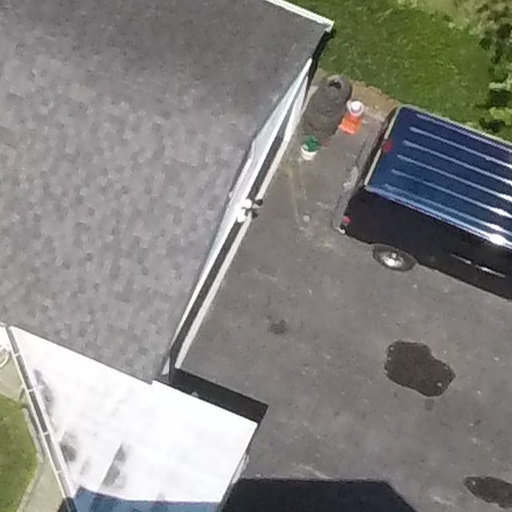container: (296, 140, 322, 166), (347, 94, 365, 118)
tire: (303, 69, 360, 148)
